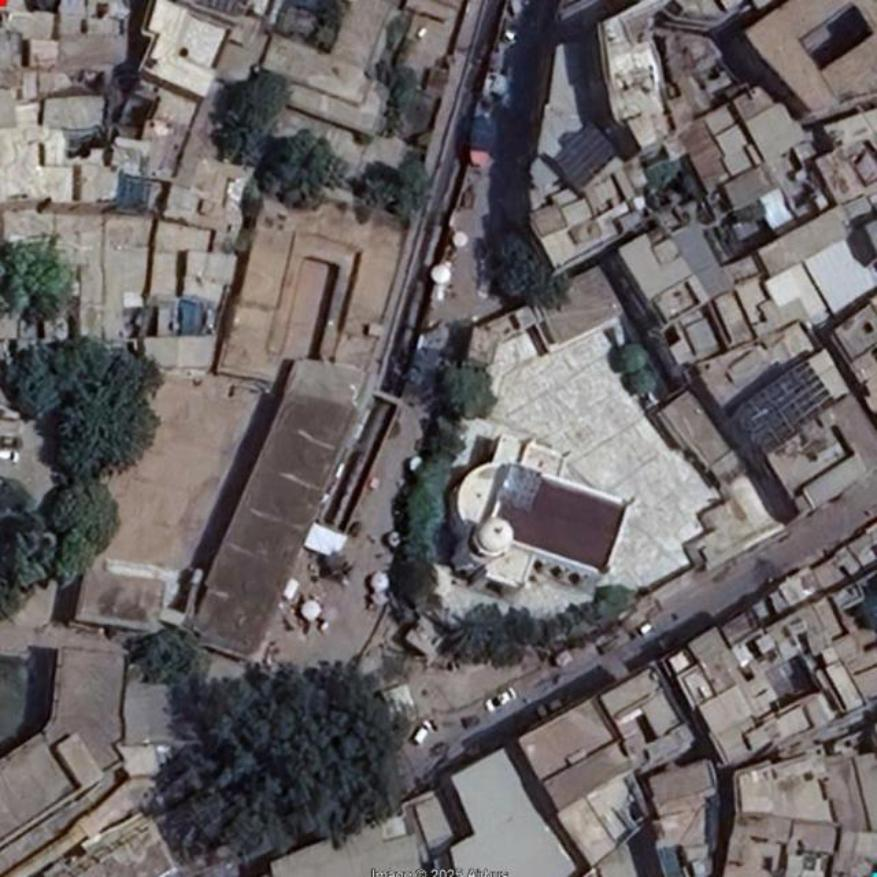Solarpanel: (737, 361, 835, 456), (556, 121, 620, 189)
